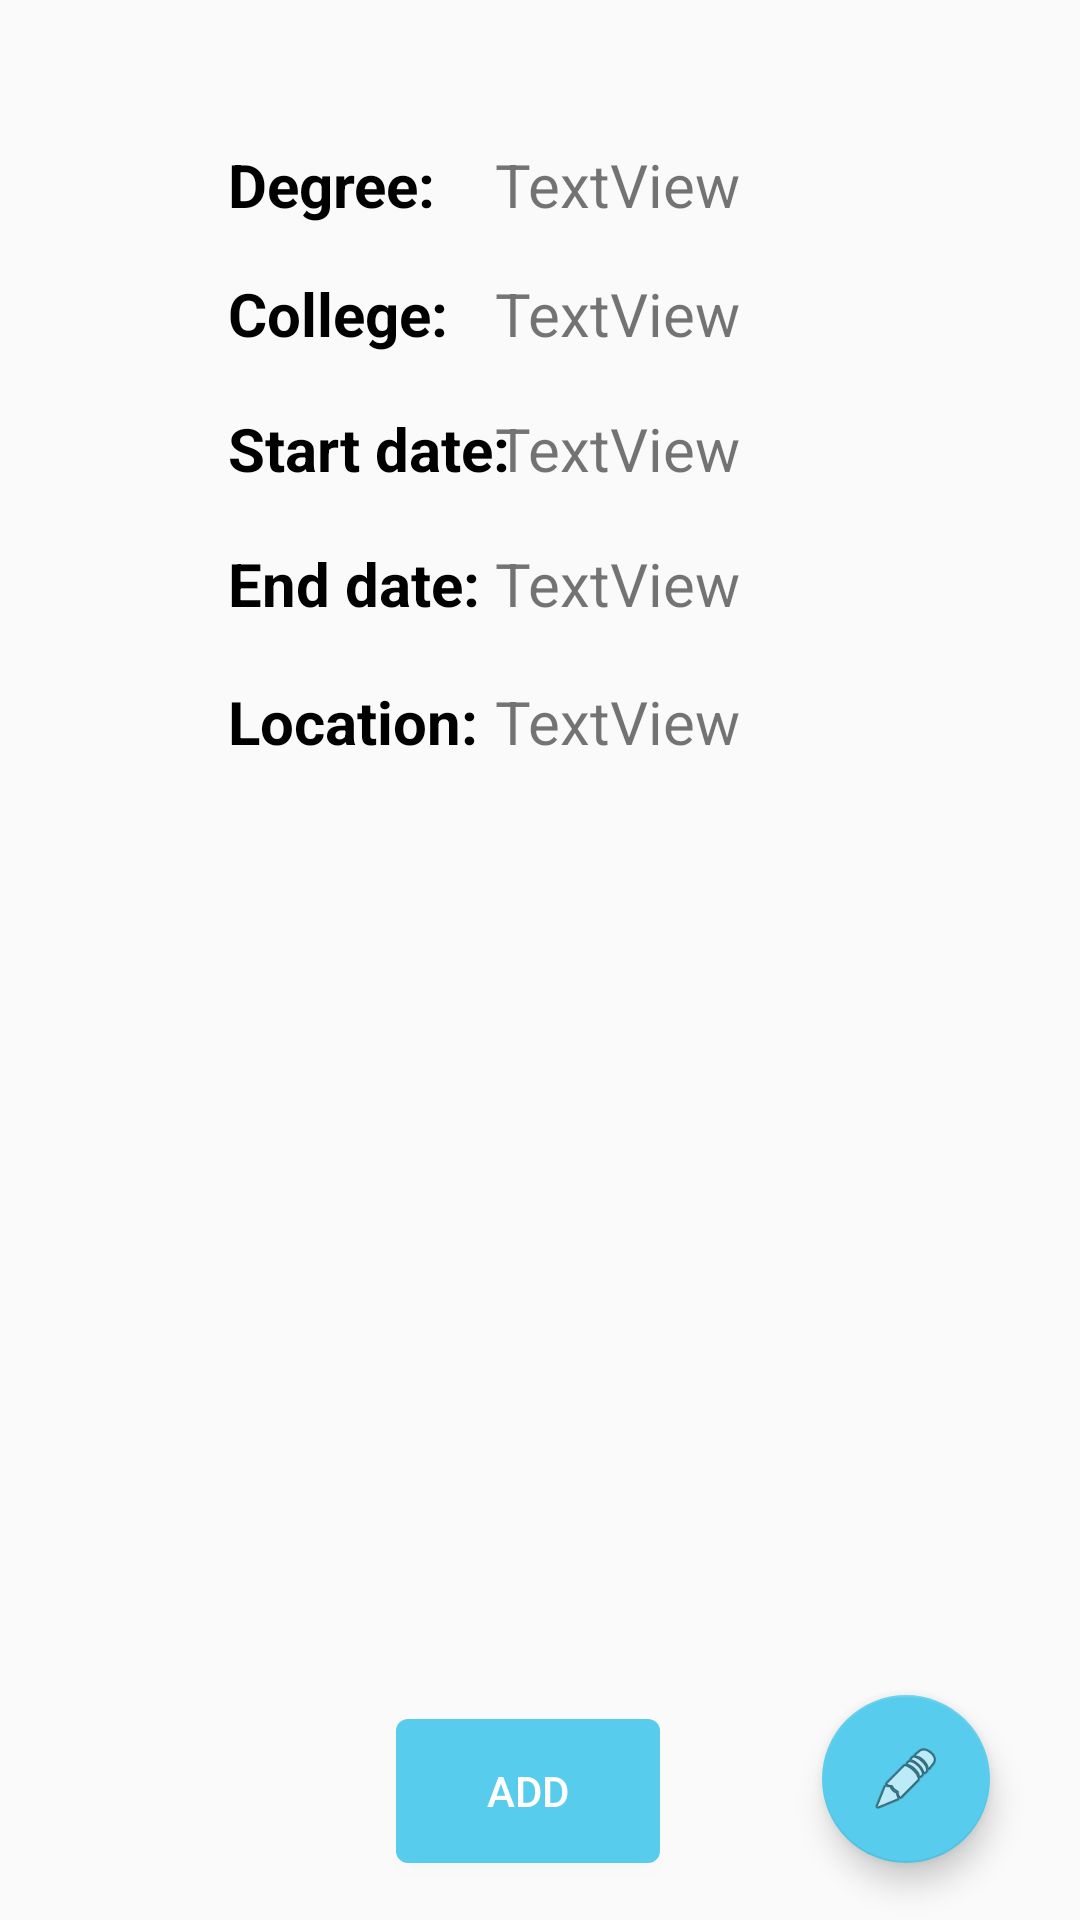

Named icons in this screenshot (1080px x 1920px) and their centers, (x=x, y=y):
edit: (x=906, y=1779)
